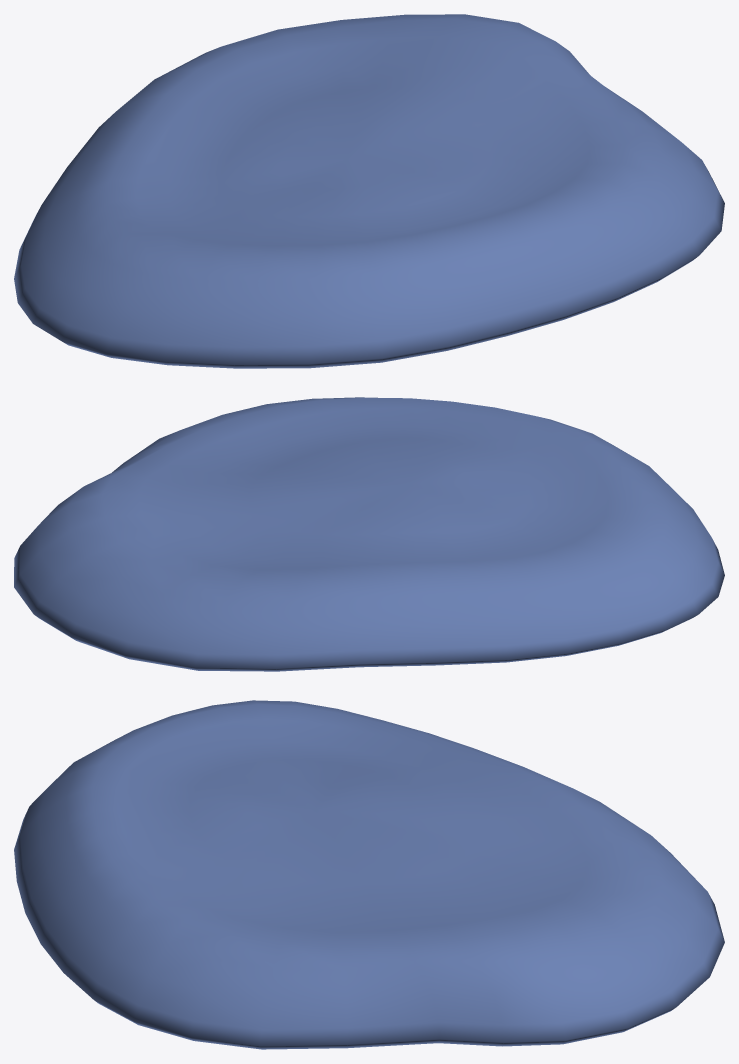
3 renders of one model, top to bottom at view 1: azimuth 30°, elevation 25°; view 2: azimuth 150°, elevation 25°; view 3: azimuth 270°, elevation 25°, orthographic. The views are drawn at different scales.
Parts seen in each view (by area): view 1: SM_VFX_LargeWaterfall_LOD0; view 2: SM_VFX_LargeWaterfall_LOD0; view 3: SM_VFX_LargeWaterfall_LOD0.
Part boxes in pixels (bbox=[...]): SM_VFX_LargeWaterfall_LOD0: bbox=[14, 14, 724, 368]; SM_VFX_LargeWaterfall_LOD0: bbox=[14, 397, 724, 671]; SM_VFX_LargeWaterfall_LOD0: bbox=[14, 700, 724, 1049].
Size of the model in its own units: 11.63 by 1.54 by 10.91.
